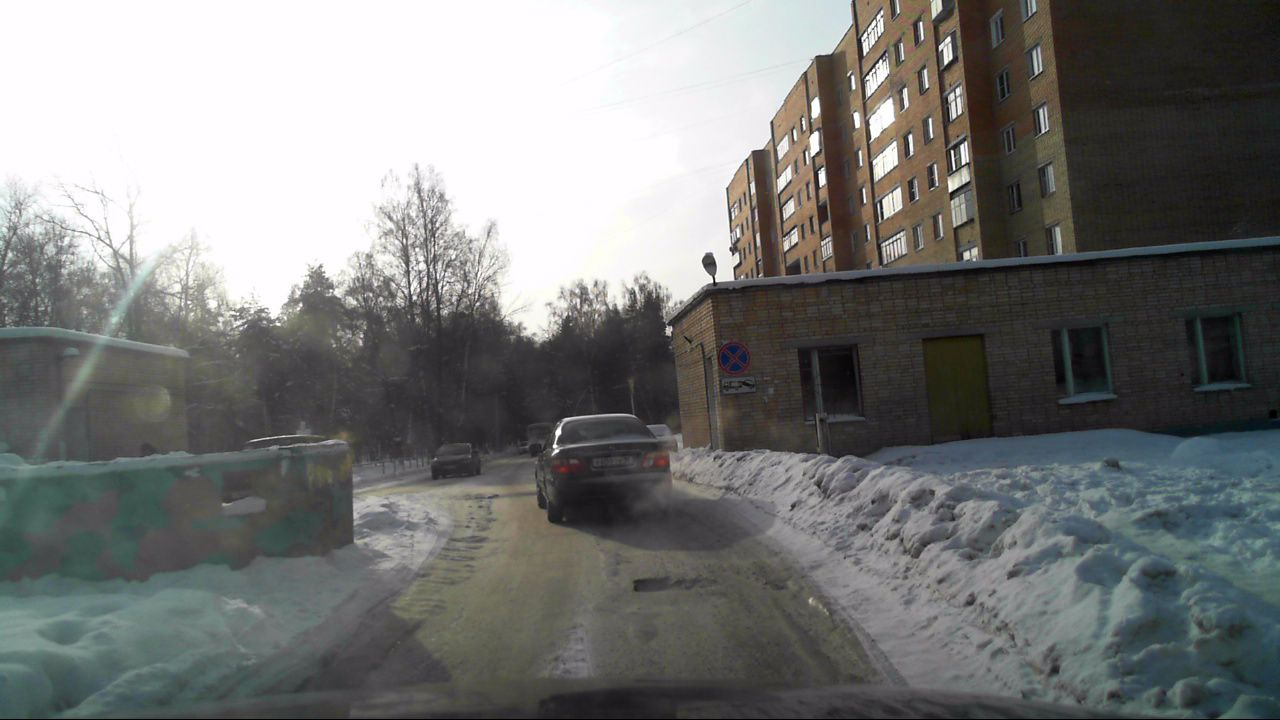No Parking: (717, 342, 750, 374)
